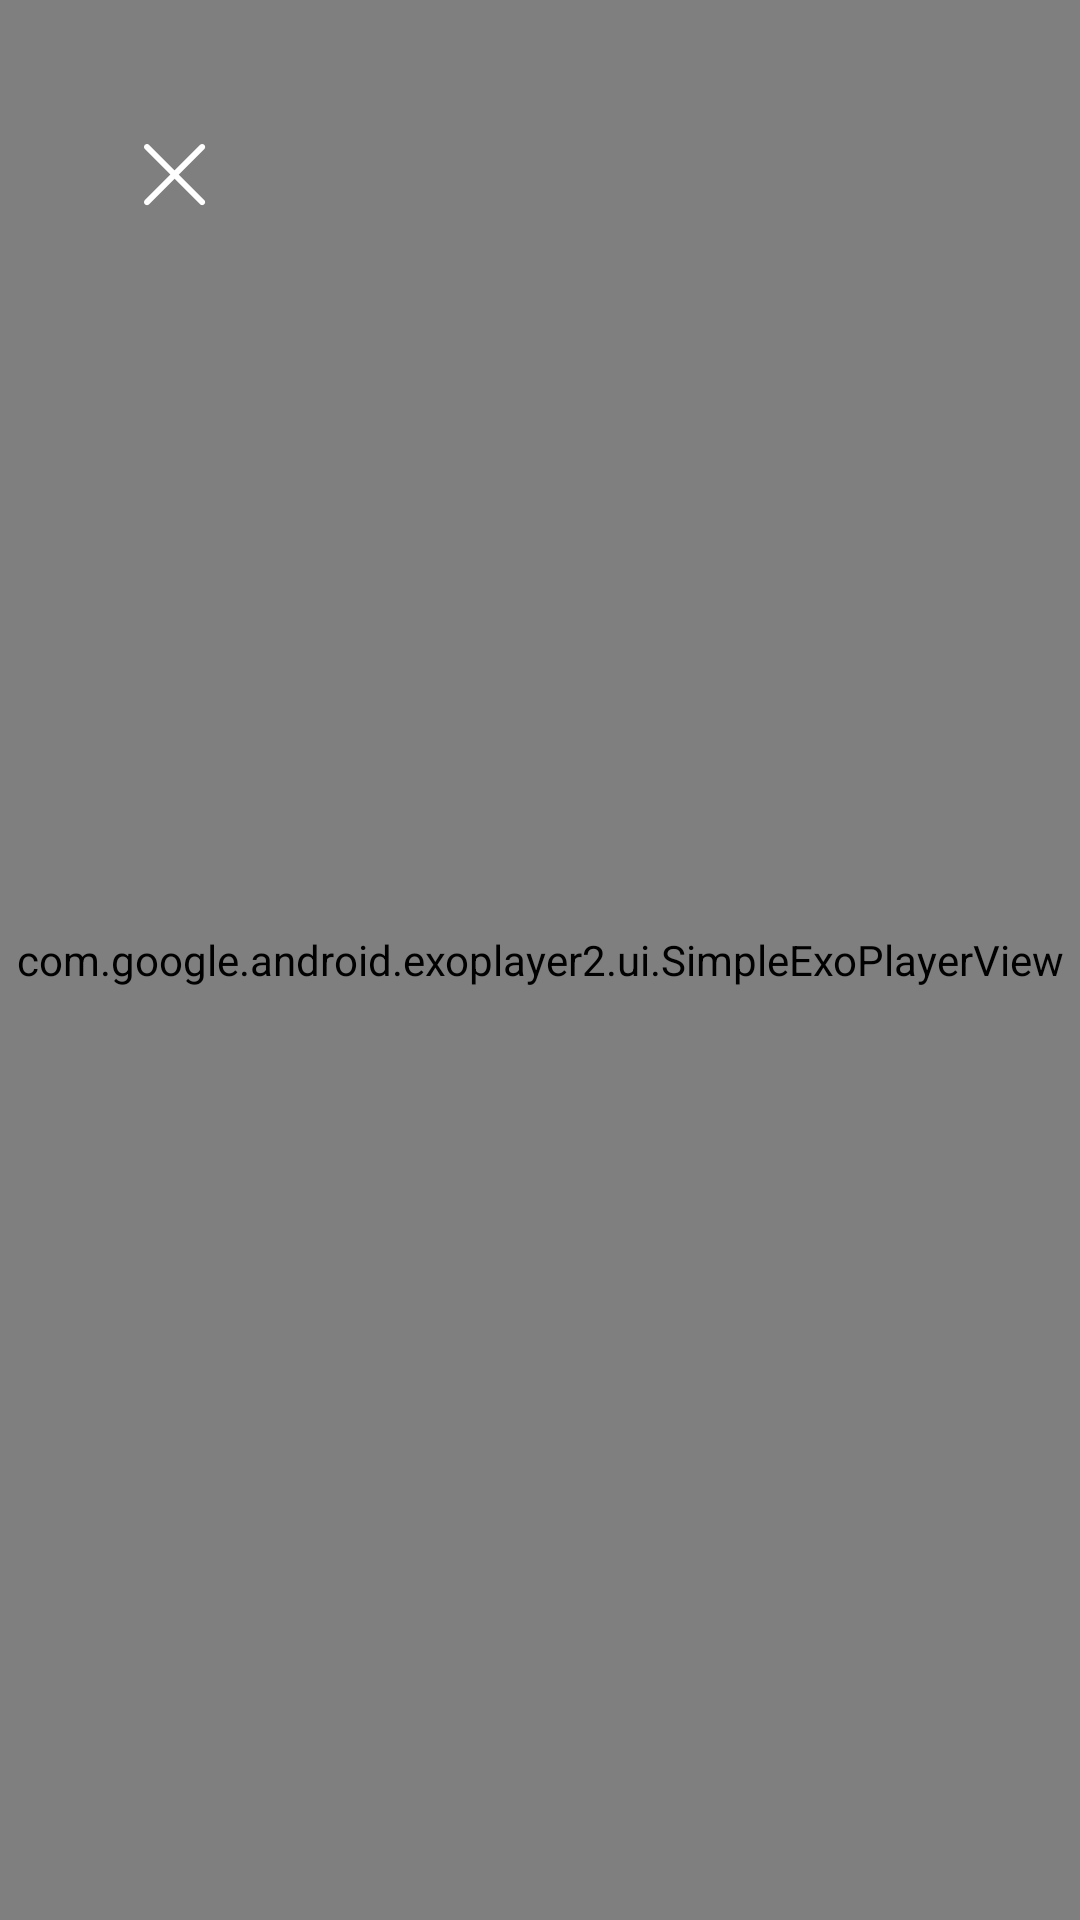

Icons on this 1080 x 1920 Android screen, each with the point to tap as [x,y]:
close: [174,174]
